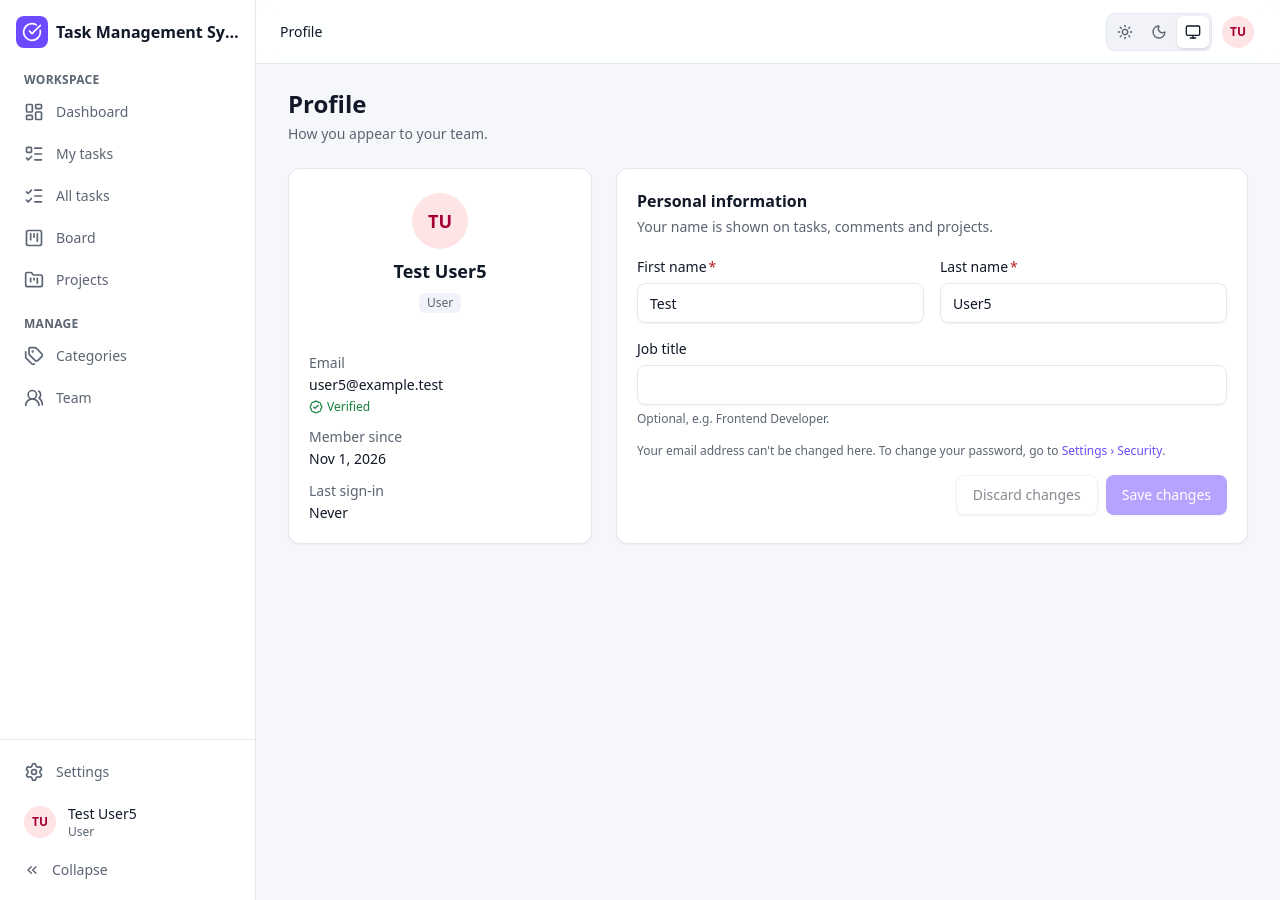
Test: Profile › validates before saving
Clear the field labelled "Last name" at (1084, 303), box top-left (940, 283), bottom-right (1227, 323)
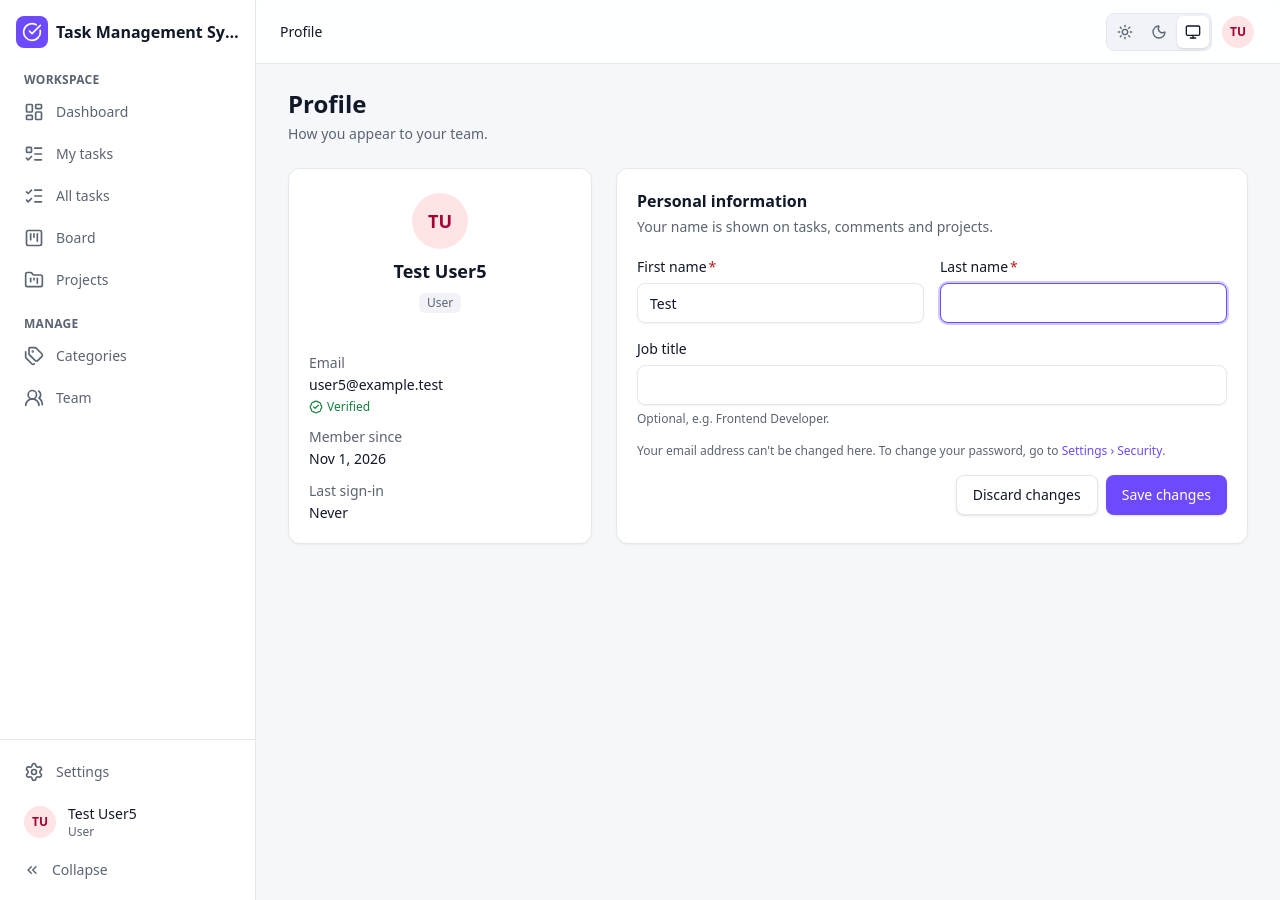
Click the button "Save changes".
click(1166, 495)  # box top-left (1106, 475), bottom-right (1227, 515)
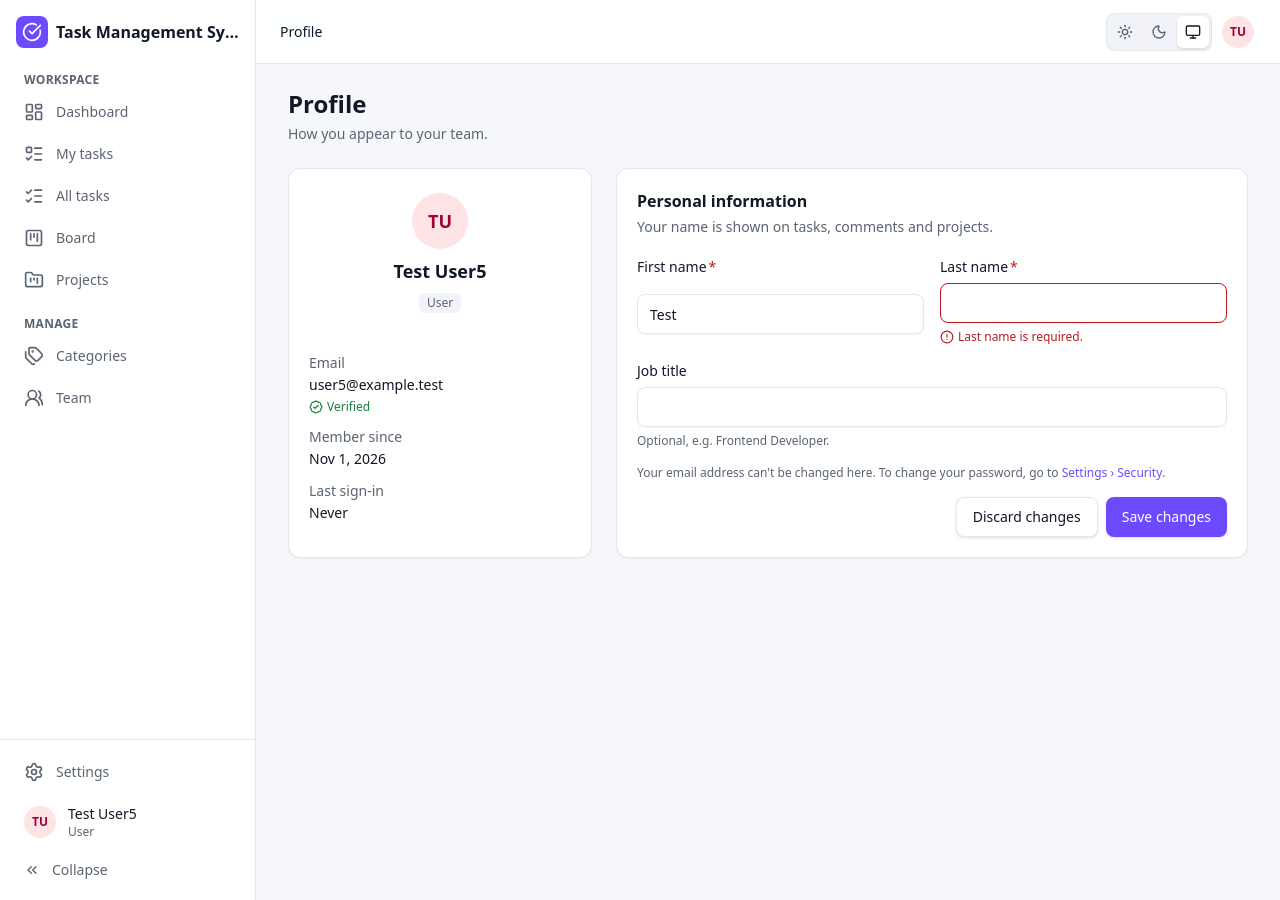
Expected: the text "Last name is required." is shown, top-left (940, 328), bottom-right (1083, 345)
